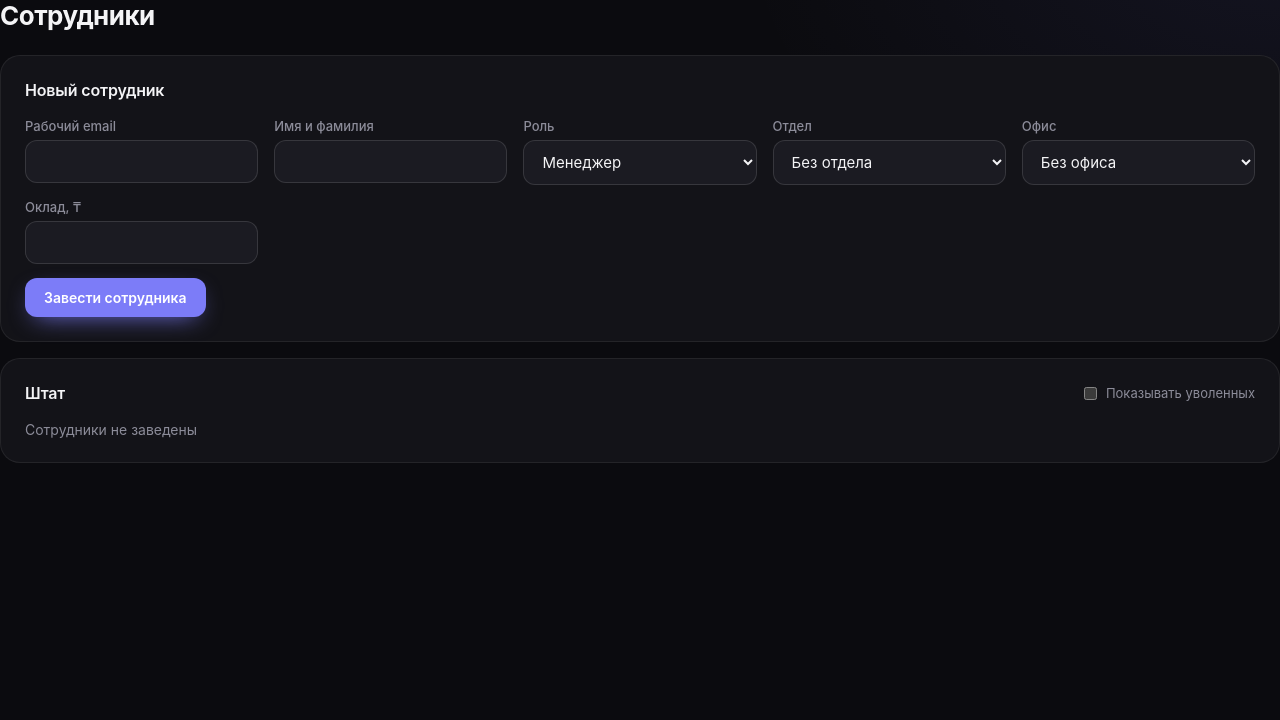
Test: передача пароля сотруднику › пароль копируется в буфер одной кнопкой
Expected: the heading "Новый сотрудник" is shown, [25,80,164,100]
In the field labelled "Рабочий email": x=142, y=162 [25,140,258,183], type "new@corpsol.kz"
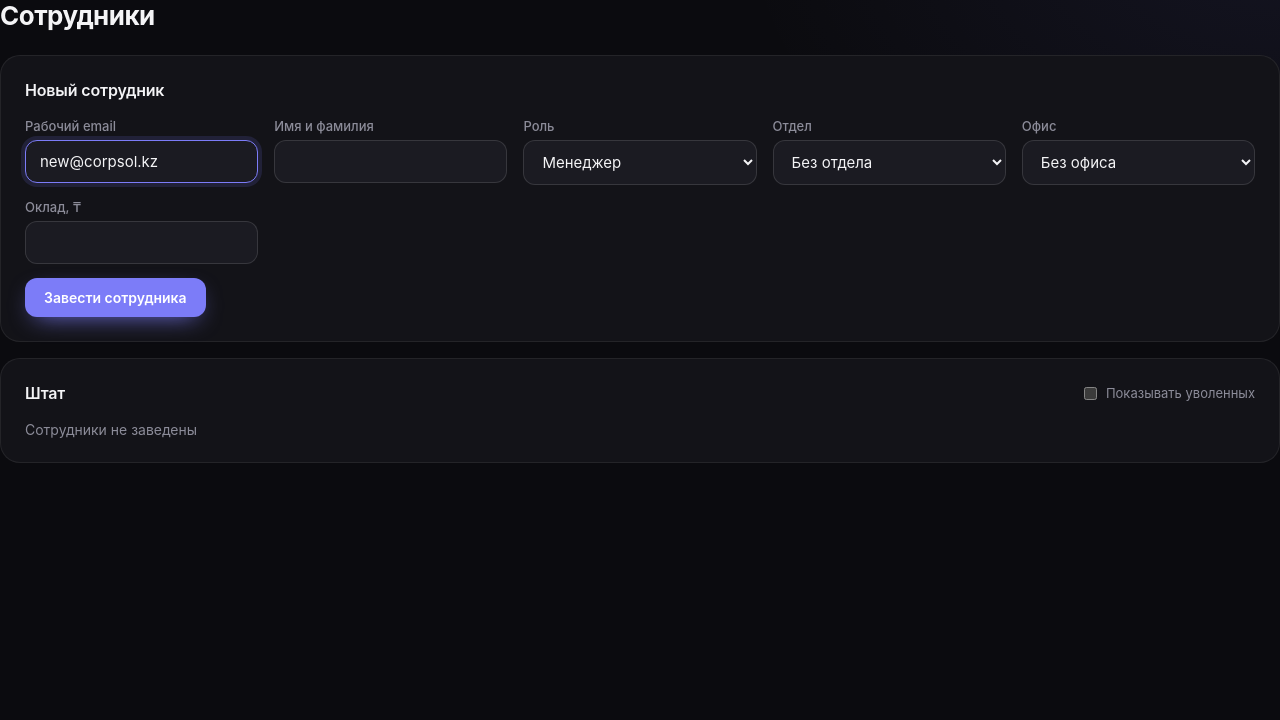
In the field labelled "Имя и фамилия": x=391, y=162 [274,140,507,183], type "Асель Ким"
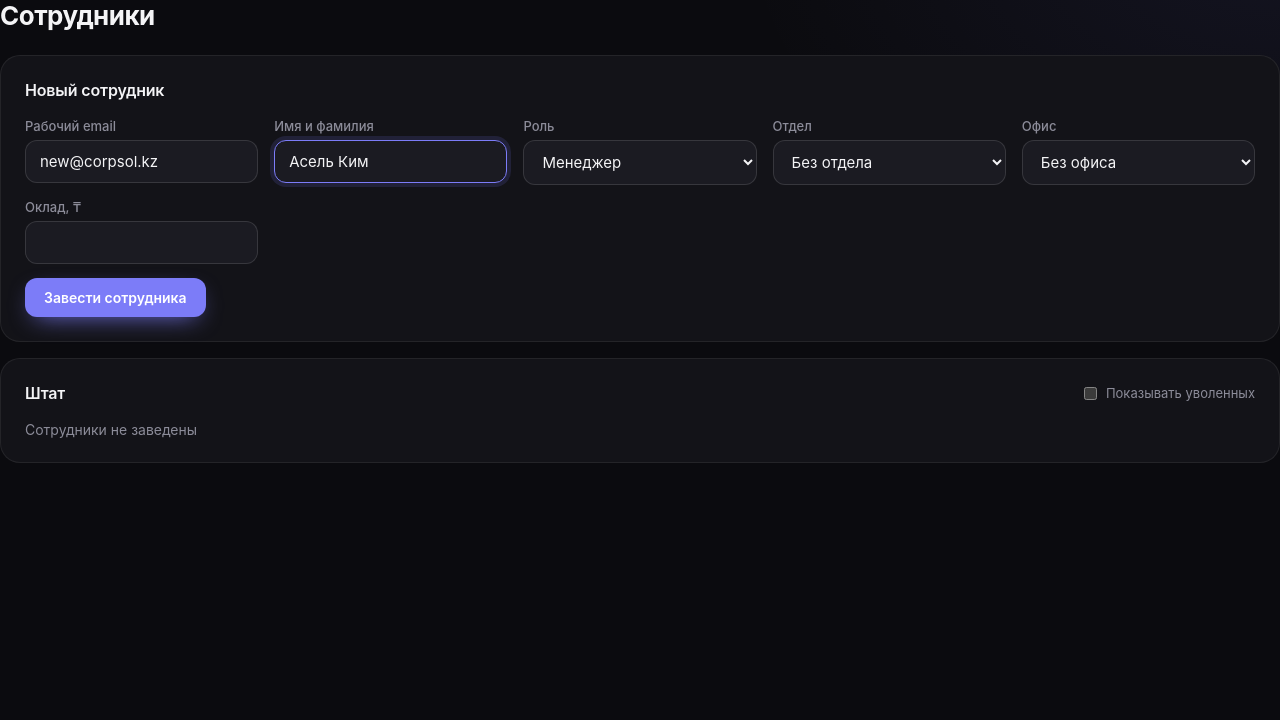
In the number field labelled "Оклад, ₸": x=142, y=242 [25,221,258,264], type "300000"
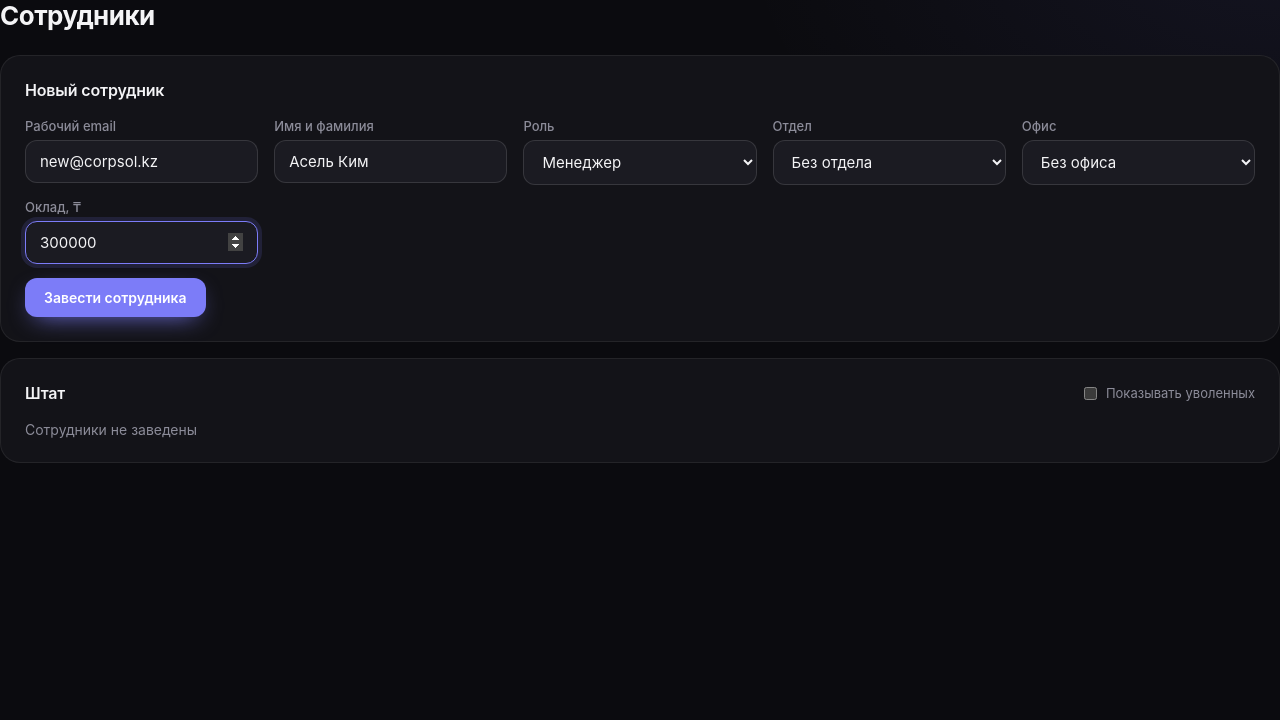
Click the button "Завести сотрудника": x=115, y=298 [25,278,206,317]
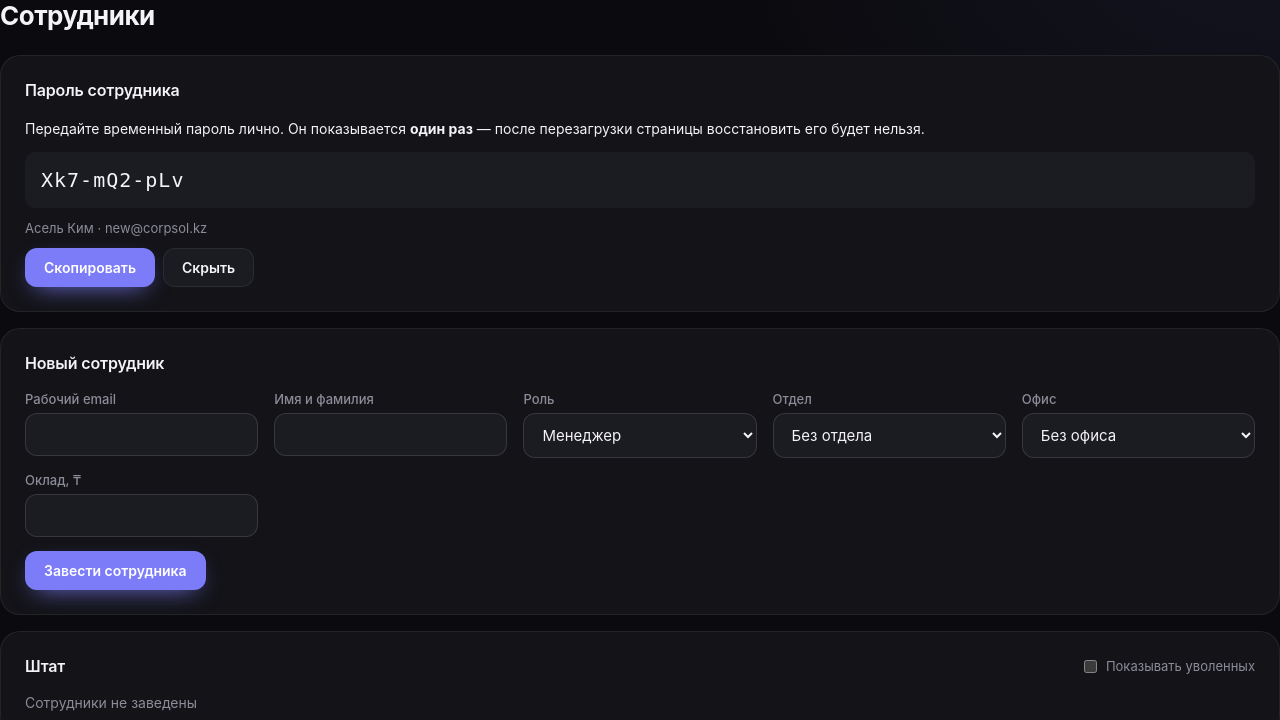
Now the text "Xk7-mQ2-pLv" is shown, box [25,152,1255,208]
Click the button "Скопировать": x=90, y=268 [25,248,155,287]
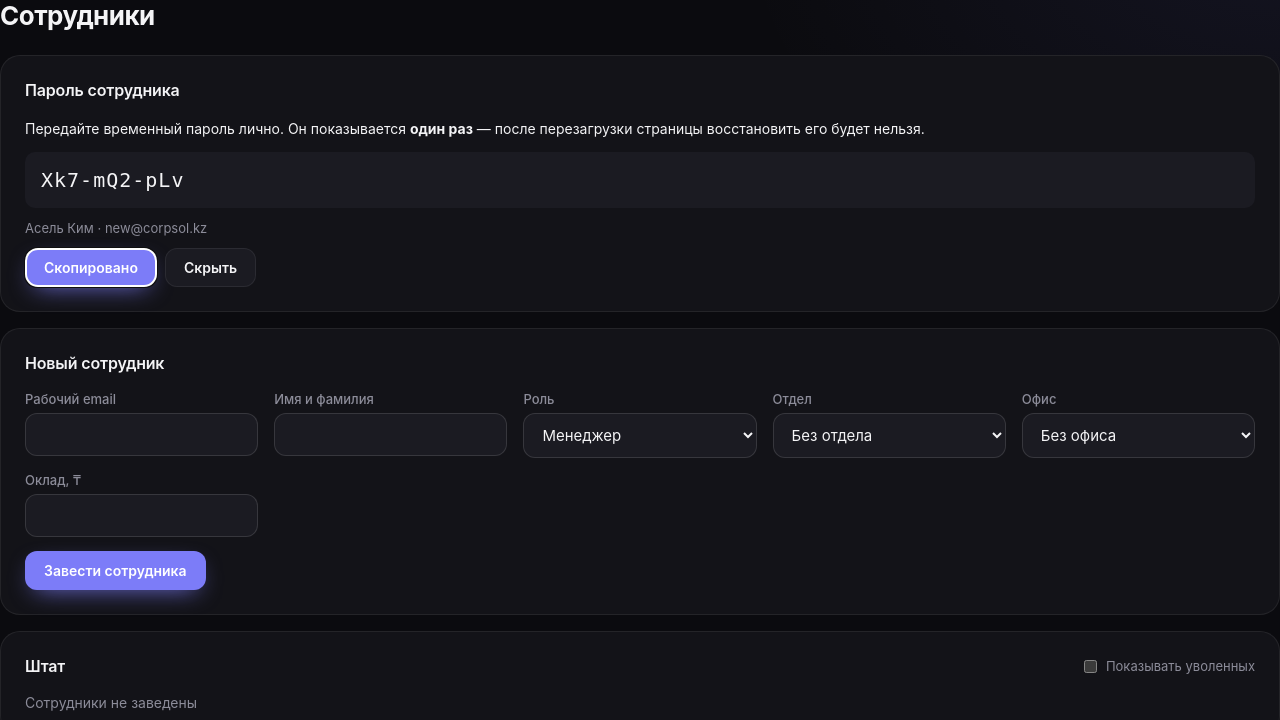
Now the button "Скопировано" is shown, box [25,248,157,287]
